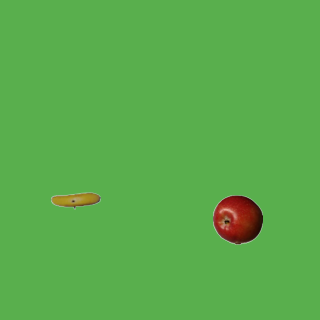Apple Braeburn: (212, 194, 262, 244)
Banana: (50, 175, 100, 225)
